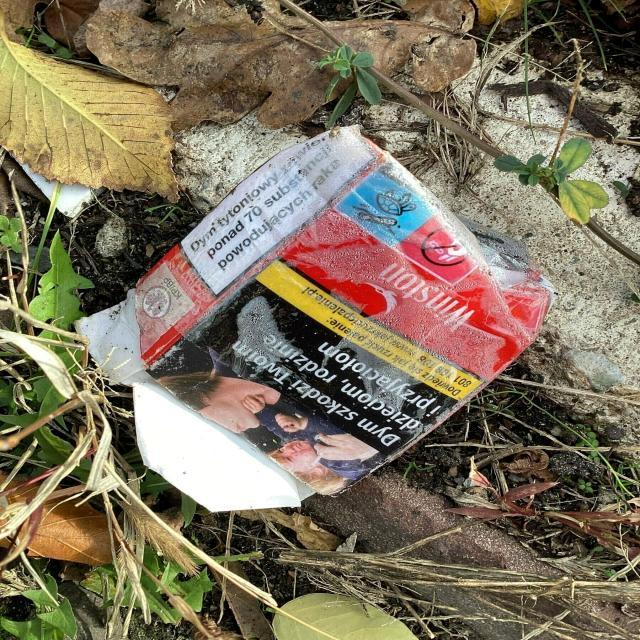Paper: (70, 120, 558, 516)
